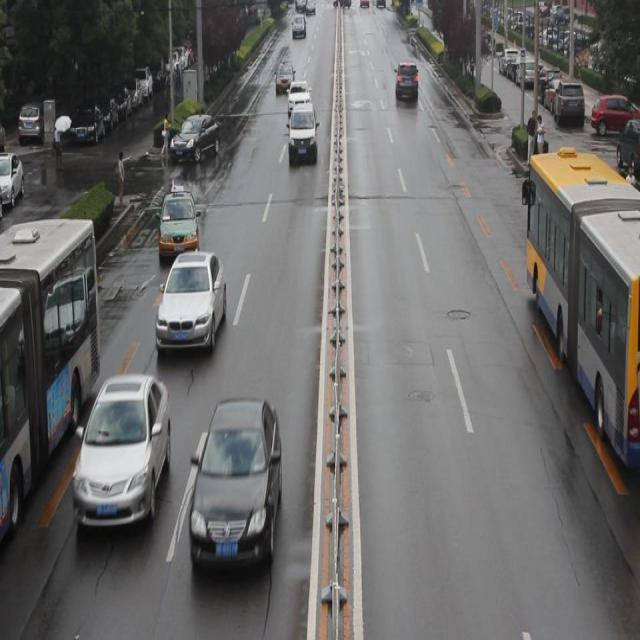car: (190, 398, 282, 570), (75, 377, 169, 536), (156, 253, 227, 353), (158, 185, 198, 259), (170, 114, 222, 160), (288, 79, 310, 117)
truck: (289, 105, 317, 165)
van: (519, 153, 640, 478), (0, 217, 100, 533)
